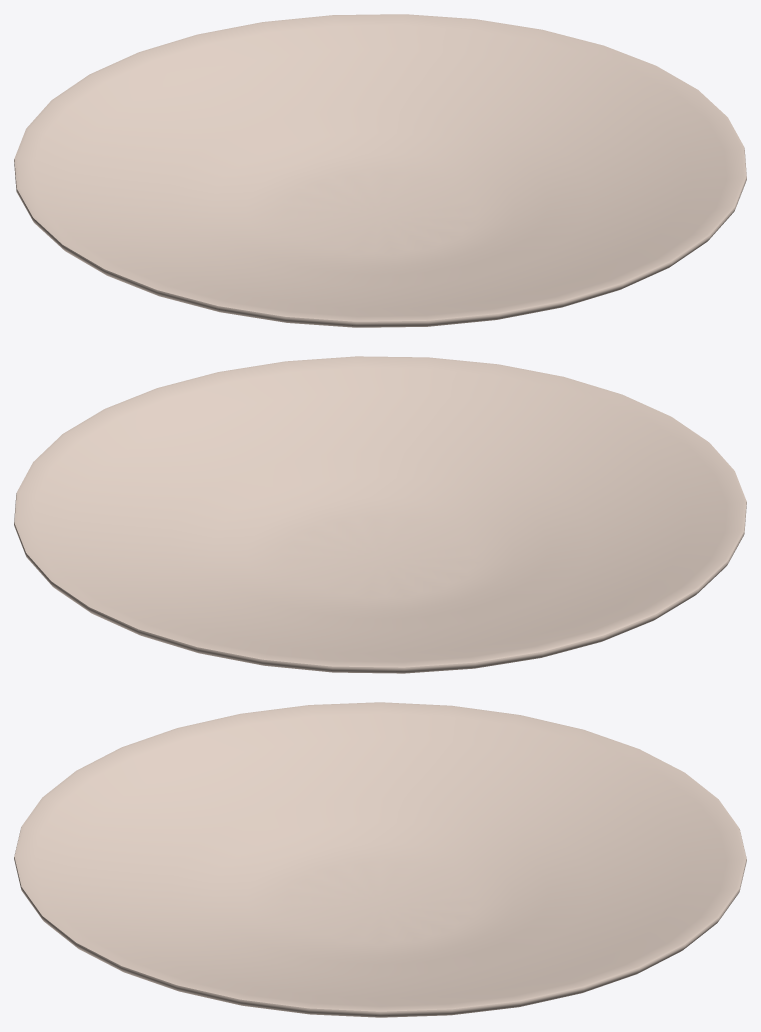
Rendered from plate.fbx.
The picture shows the model from 3 angles, top to bottom: view 1: azimuth 30°, elevation 25°; view 2: azimuth 150°, elevation 25°; view 3: azimuth 270°, elevation 25°; orthographic projection.
Parts seen in each view (by area): view 1: Circle.001; view 2: Circle.001; view 3: Circle.001.
Part boxes in pixels (x1,y1,x2,y2): Circle.001: (14, 14, 746, 327); Circle.001: (14, 356, 746, 673); Circle.001: (14, 702, 746, 1017).
Bounding box in the file's own units: 236 × 22.25 × 236.
